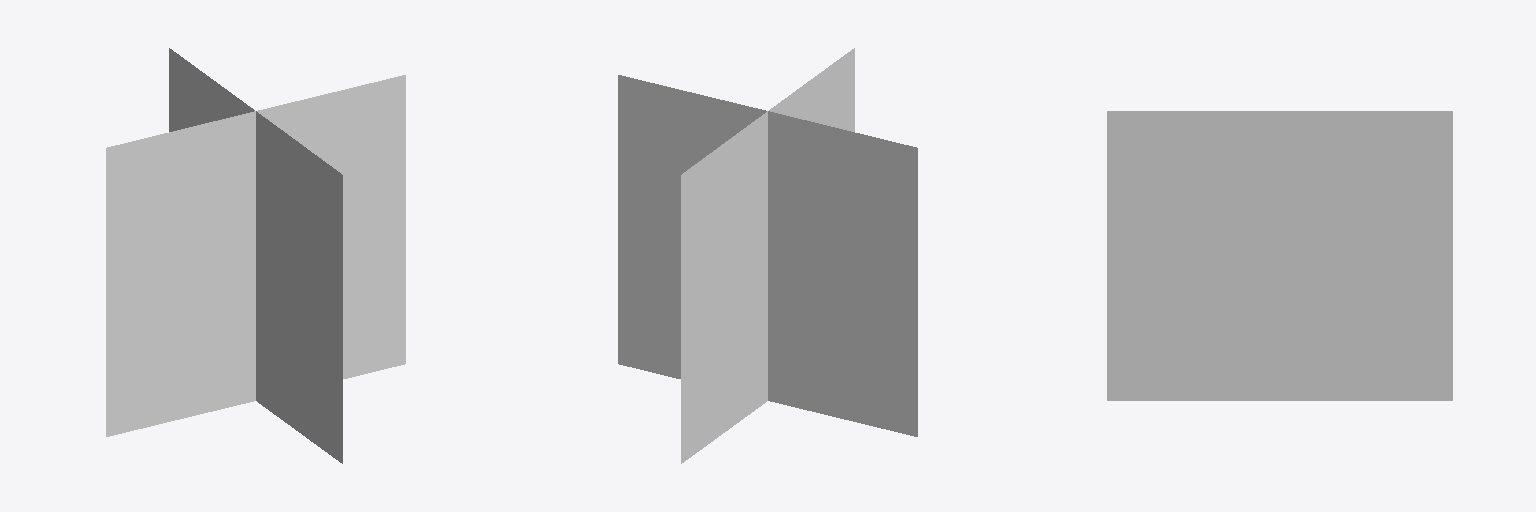
Rendered from Mountain_Mahogany_Fan_0.obj.
The picture shows the model from 3 angles: view 1: azimuth 30°, elevation 25°; view 2: azimuth 150°, elevation 25°; view 3: azimuth 270°, elevation 25°; orthographic projection.
Visible parts, largest first — view 1: CreateFan; view 2: CreateFan; view 3: CreateFan.
Boxes of the visible parts, x1=… form: CreateFan: x1=106, y1=48, x2=405, y2=463; CreateFan: x1=618, y1=48, x2=917, y2=463; CreateFan: x1=1107, y1=111, x2=1452, y2=400.
Size of the model in its own units: 3.79 by 3.5 by 3.79.